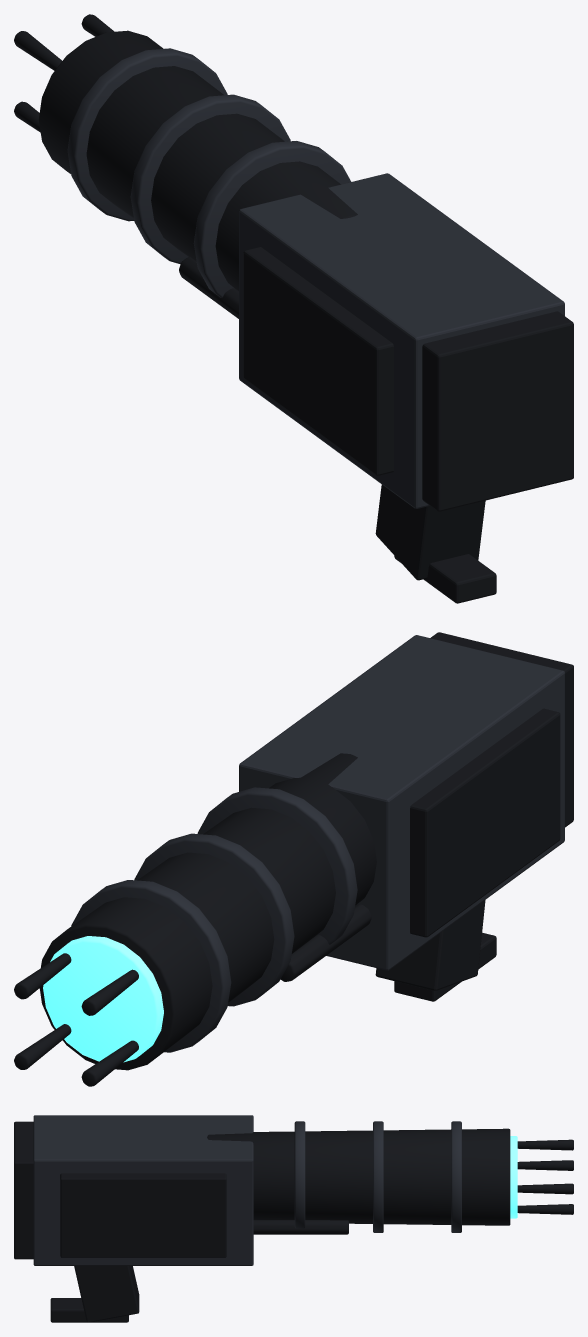
Rendered from disintegrator.glb.
3 renders of one model, top to bottom at view 1: azimuth 30°, elevation 25°; view 2: azimuth 150°, elevation 25°; view 3: azimuth 270°, elevation 25°, orthographic. The views are drawn at different scales.
Visible parts, largest first — view 1: body; view 2: body; view 3: body.
Part boxes in pixels (x1,y1,x2,y2): body: (14,14,573,603); body: (14,632,573,1086); body: (14,1115,573,1322).
Size of the model in its own units: 0.27 by 0.43 by 1.14.
